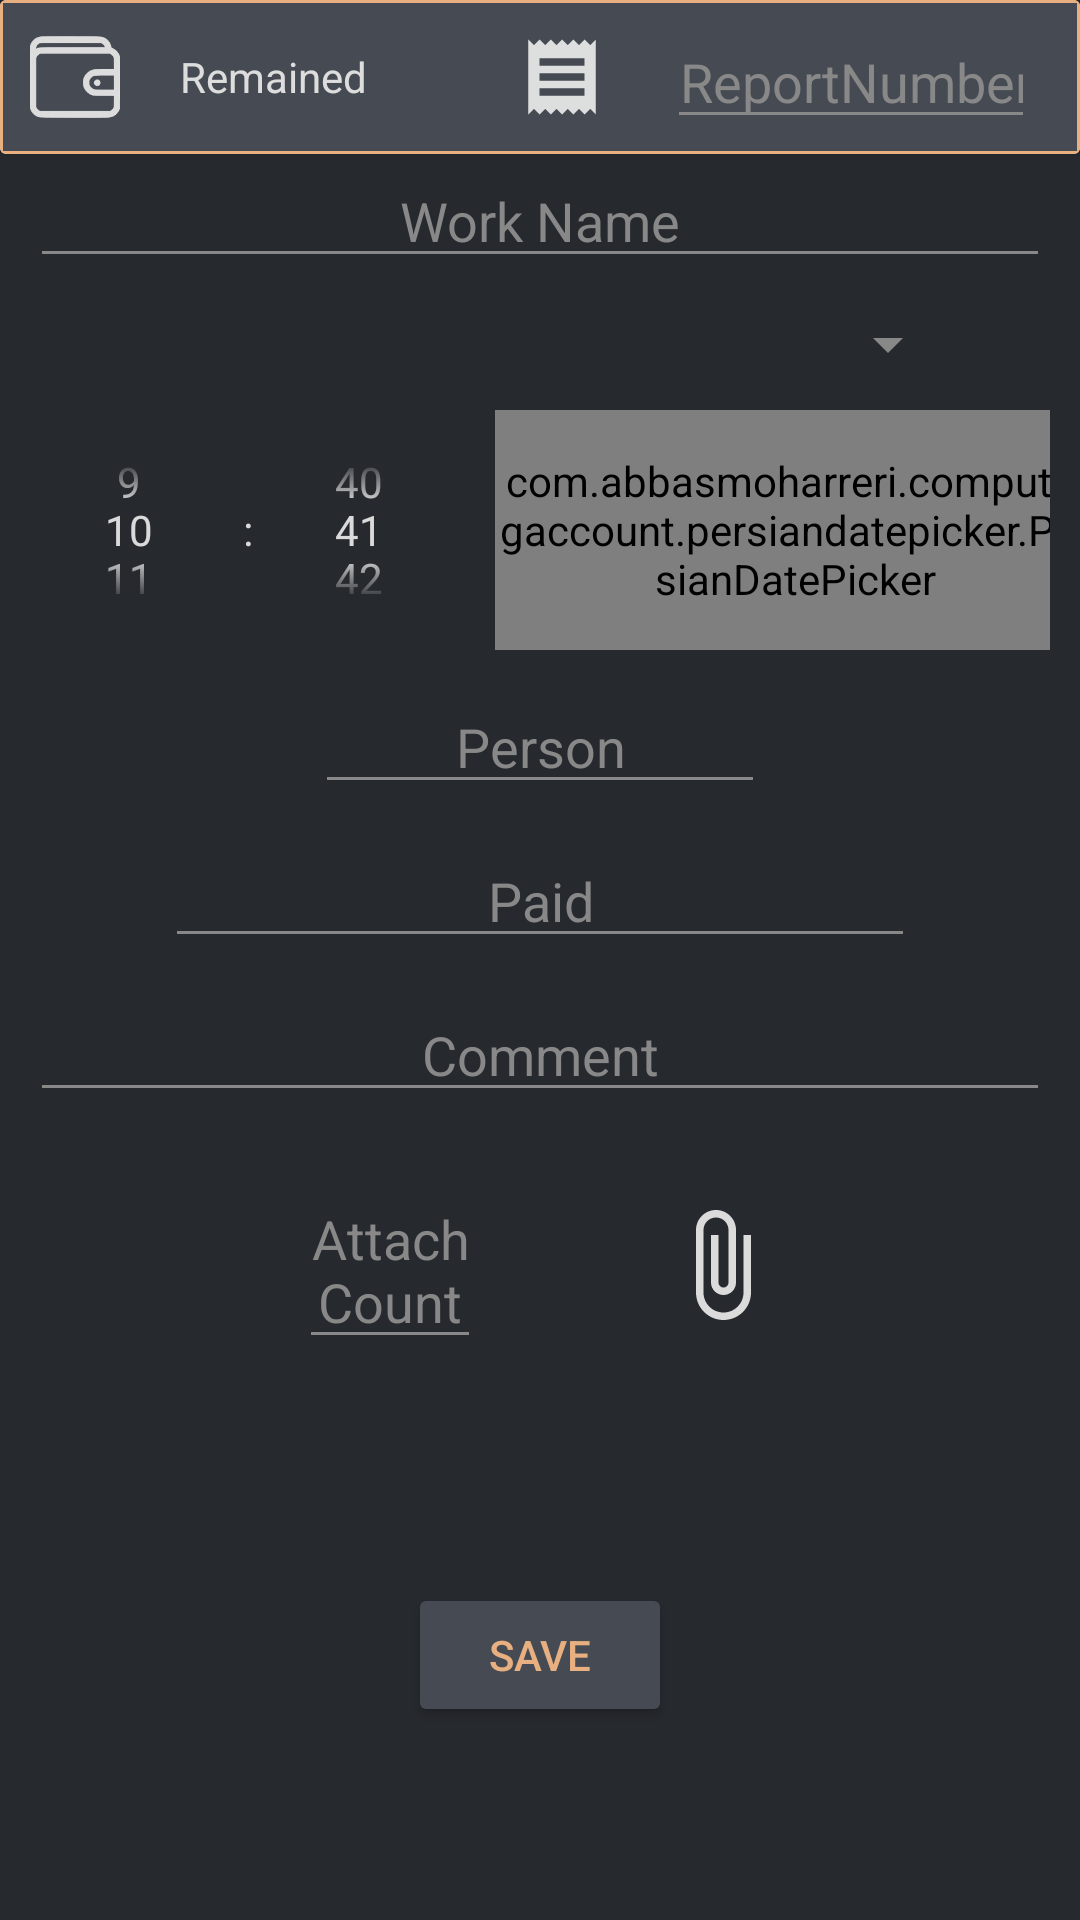

Screen size 1080x1920. Icon name, then its box in pixels as box(x1, y1, x2, y2):
attach file: box(696, 1210, 751, 1320)
reports: box(528, 39, 596, 115)
wallet: box(30, 36, 120, 118)
